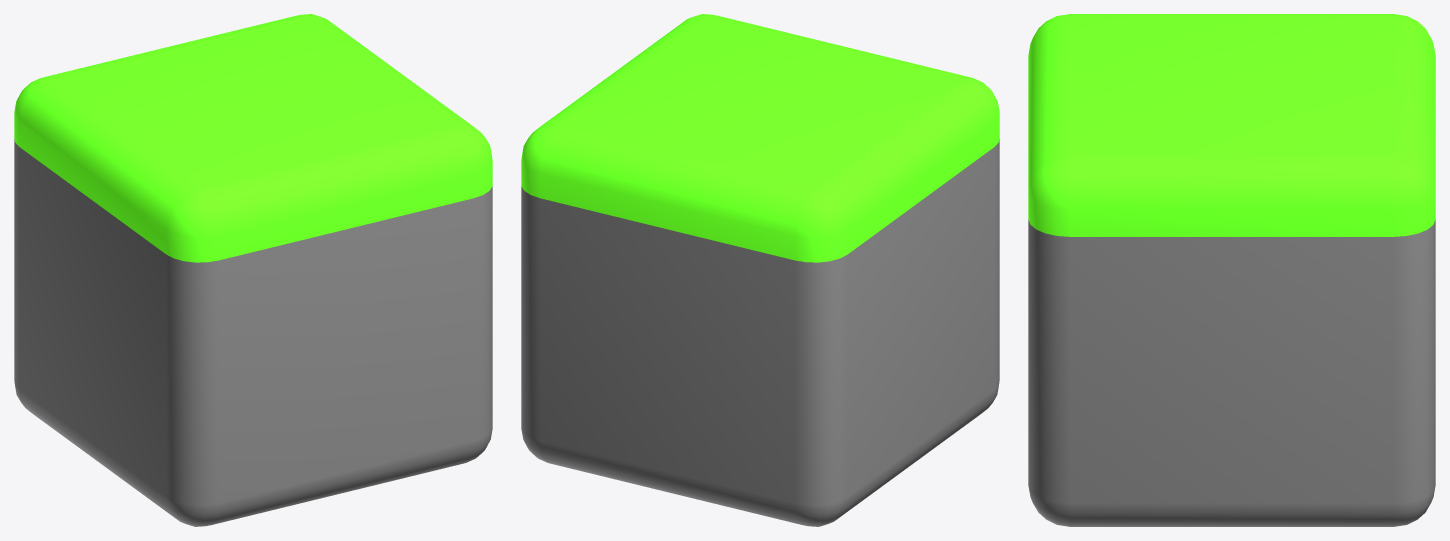
3 renders of one model, left to right at view 1: azimuth 30°, elevation 25°; view 2: azimuth 150°, elevation 25°; view 3: azimuth 270°, elevation 25°, orthographic. The views are drawn at different scales.
Visible parts, largest first — view 1: Cube_2; view 2: Cube_2; view 3: Cube_2.
Part boxes in pixels (left/top/right/bottom): Cube_2: left=14, top=14, right=492, bottom=526; Cube_2: left=521, top=14, right=999, bottom=526; Cube_2: left=1028, top=14, right=1435, bottom=526.
Size of the model in its own units: 100 by 100 by 100.
